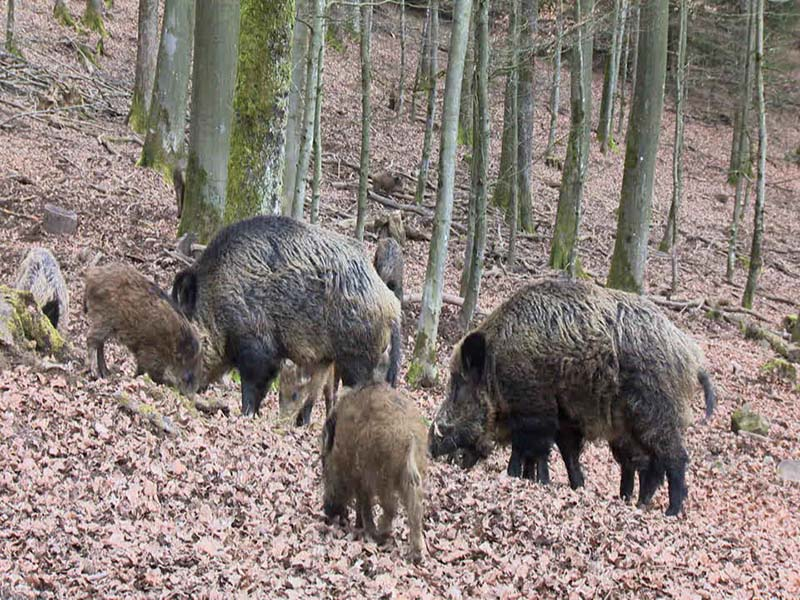cinghiale: (438, 274, 720, 523), (163, 212, 410, 428), (81, 262, 202, 406), (321, 381, 427, 532)
